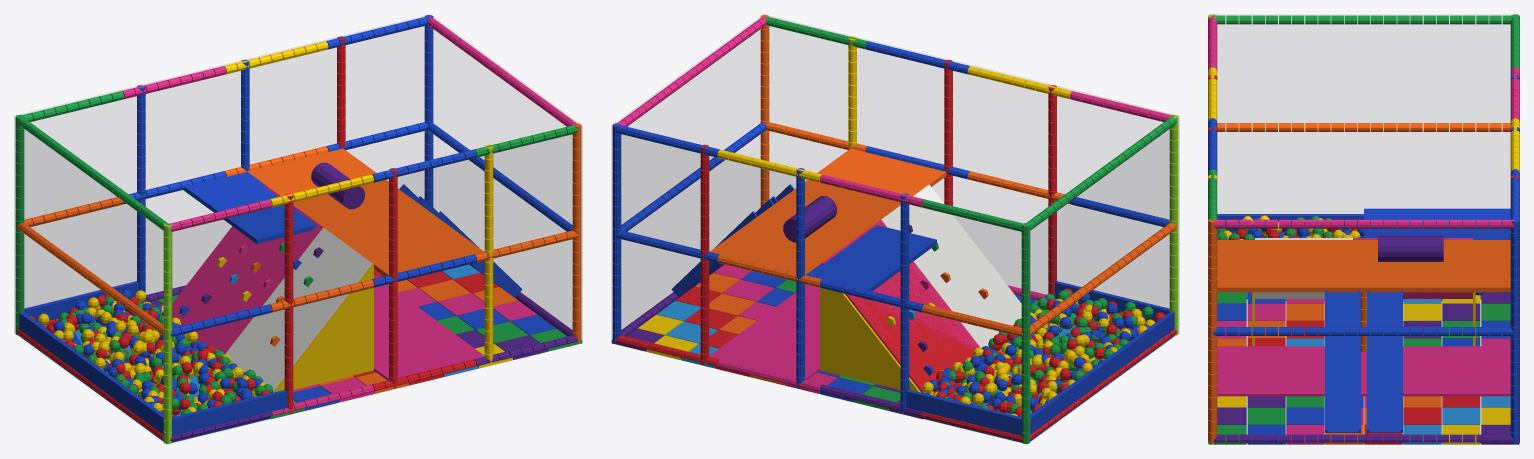
File: kidplay-6m-grande.glb
3 views of the same model, side by side, from view 1: azimuth 30°, elevation 25°; view 2: azimuth 150°, elevation 25°; view 3: azimuth 270°, elevation 25° (orthographic). The views are drawn at different scales.
Visible parts, largest first — view 1: azul, laranja, rosa, amarelo, vermelho, verde, branco, roxo, verdeclaro, azulclaro; view 2: azul, laranja, vermelho, rosa, amarelo, verde, branco, roxo, verdeclaro, azulclaro; view 3: azul, laranja, rosa, verde, roxo, amarelo, vermelho, azulclaro, branco.
Part boxes in pixels (box(x1,y1,x2,y2)): azul: box(18, 15, 572, 442); laranja: box(16, 123, 581, 393); rosa: box(121, 16, 577, 415); amarelo: box(38, 41, 512, 415); vermelho: box(17, 36, 498, 440); verde: box(15, 91, 582, 419); branco: box(225, 227, 372, 391); roxo: box(143, 162, 578, 441); verdeclaro: box(163, 223, 172, 443); azulclaro: box(19, 264, 479, 441); azul: box(612, 41, 1175, 442); laranja: box(695, 15, 1176, 385); vermelho: box(615, 59, 1176, 441); rosa: box(616, 16, 1173, 393); amarelo: box(637, 36, 1155, 416); verde: box(765, 16, 1176, 443); branco: box(881, 184, 1021, 347); roxo: box(611, 196, 1145, 419); verdeclaro: box(1169, 114, 1178, 335); azulclaro: box(657, 300, 1174, 442); azul: box(1208, 75, 1519, 444); laranja: box(1208, 123, 1510, 444); rosa: box(1208, 16, 1519, 444); verde: box(1208, 14, 1519, 444); roxo: box(1208, 235, 1519, 444); amarelo: box(1208, 67, 1519, 444); vermelho: box(1208, 75, 1519, 444); azulclaro: box(1246, 292, 1510, 444); branco: box(1255, 238, 1352, 300).
Bounding box in the file's own units: 6 × 3.02 × 3.8.
